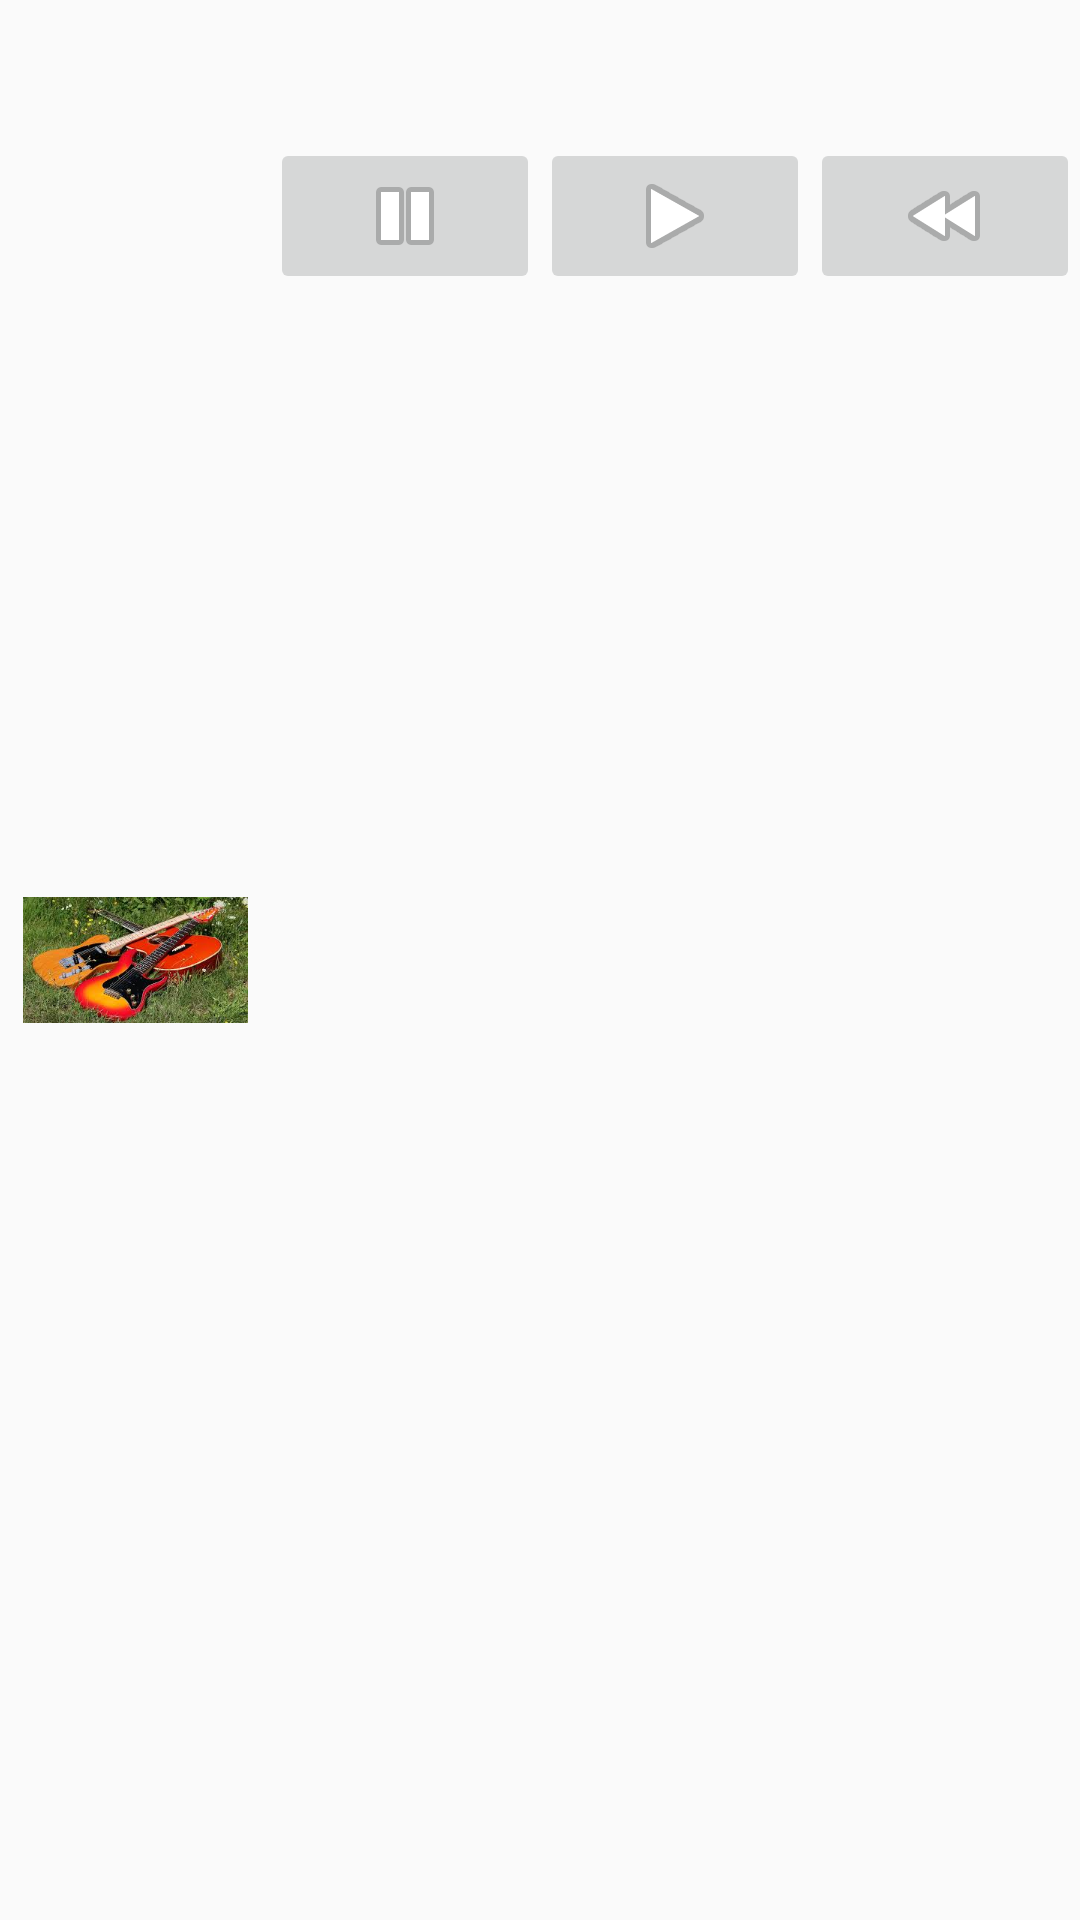

Screen size 1080 × 1920. Icon name, then its box in pixels as rect(x1, y1, x2, y2):
Instruments images: rect(23, 897, 248, 1023)
pause: rect(282, 156, 528, 276)
play: rect(552, 156, 798, 276)
rew: rect(822, 156, 1068, 276)
